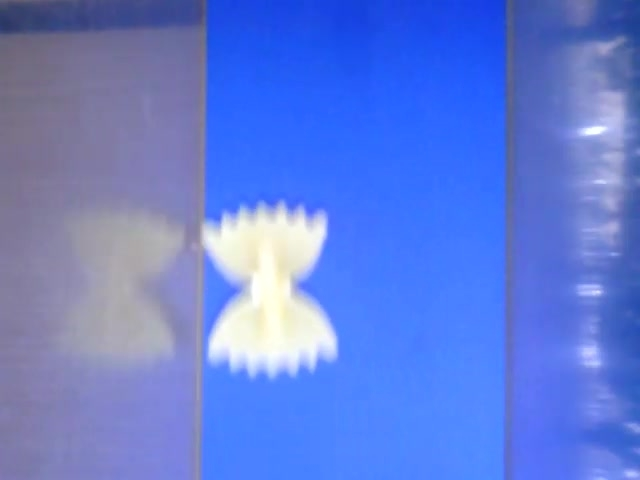farfalle: (201, 202, 340, 377)
